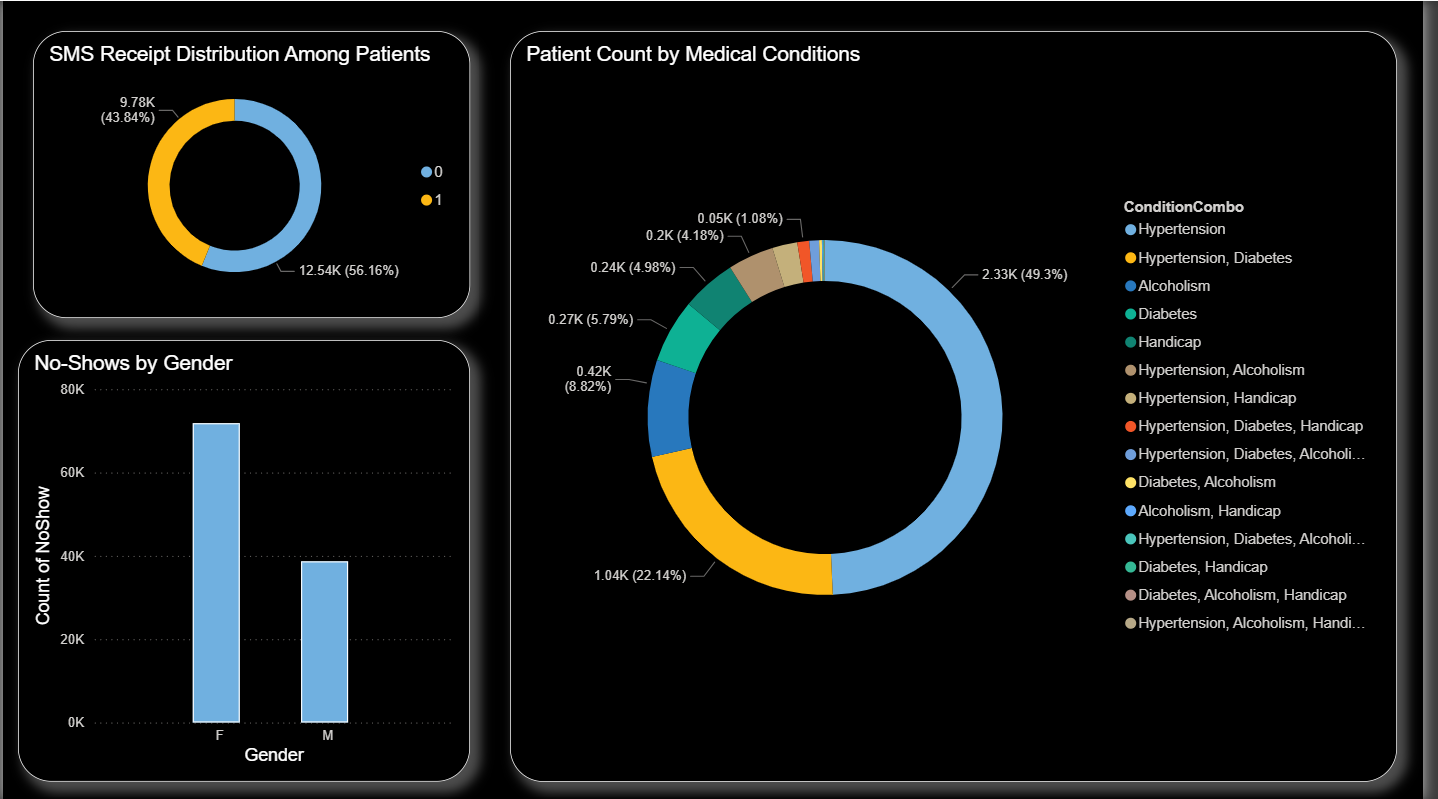

The page's visual inventory and layout, read from the dashboard file:
{"tool":"powerbi","page":{"name":" Patient_Demographics","canvas":[1280,720],"ordinal":1},"visuals":[{"type":"columnChart","title":"No-Shows by Gender","fields":{"Category":["KaggleV2-May-2016.Gender"],"Y":["CountNonNull(KaggleV2-May-2016.NoShow)"]},"box":[13.6,305.9,407.3,398.2],"z":0},{"type":"donutChart","title":"Patient Count by Medical Conditions","fields":{"Category":["KaggleV2-May-2016.ConditionCombo"],"Y":["CountNonNull(KaggleV2-May-2016.PatientId)"]},"box":[457.3,27.3,799.5,676.8],"z":1000},{"type":"pieChart","title":"SMS Receipt Distribution Among Patients","fields":{"Category":["KaggleV2-May-2016.SMS_received"],"Y":["CountNonNull(KaggleV2-May-2016.PatientId)"]},"box":[27.3,27.3,393.7,258.9],"z":2000}]}

Visuals, with their boxes in screenshot pixels (x1, y1, x2, y2), scaled from the page's 1280x720 canvas onto the 1438x799 screenshot:
"No-Shows by Gender" columnChart: crop(15, 339, 473, 781)
"Patient Count by Medical Conditions" donutChart: crop(514, 30, 1412, 781)
"SMS Receipt Distribution Among Patients" pieChart: crop(31, 30, 473, 318)
